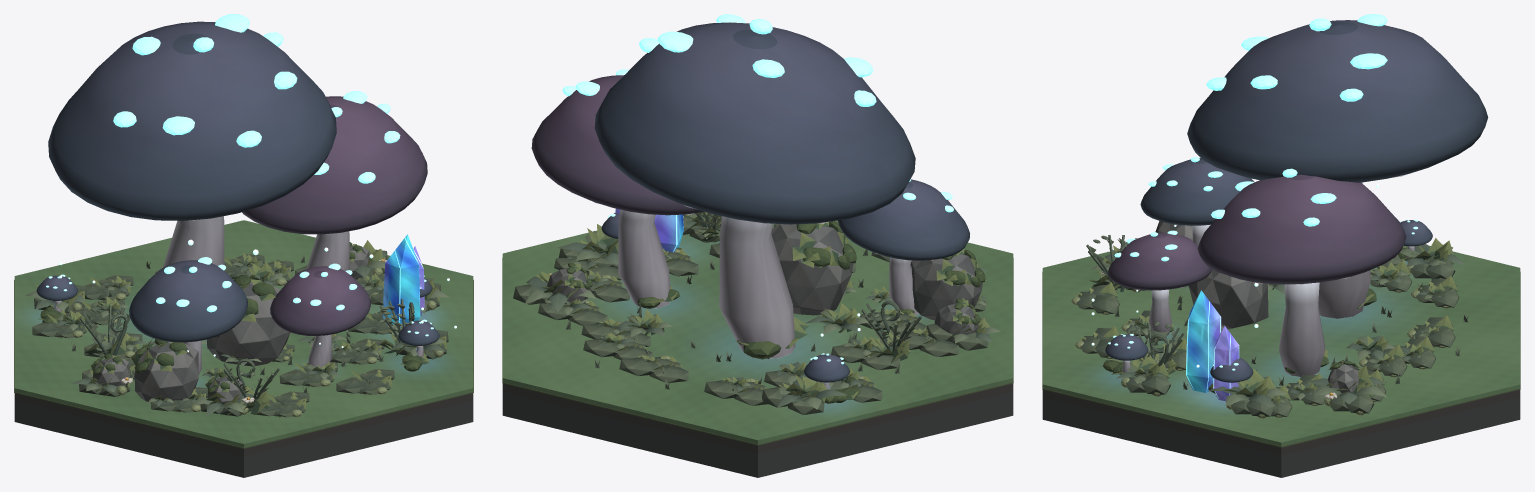
File: hex_glowing_mushrooms.glb
The picture shows the model from 3 angles, left to right: view 1: azimuth 30°, elevation 25°; view 2: azimuth 150°, elevation 25°; view 3: azimuth 270°, elevation 25°; orthographic projection. The views are drawn at different scales.
Visible parts, largest first — view 1: Broad faceted mushroom cap.001, Standard hex meadow top.001, Broad faceted mushroom cap.003, Standard hex stone foundation.001, Broad faceted mushroom cap.004, Broad faceted mushroom cap.005, Standard hex earth layer.001, Angular mossy forest boulder.001, Angular mossy forest boulder.002, Faceted magical crystal.001, Curving luminous mushroom stem.001, Curving luminous mushroom stem.003 (+6 smaller); view 2: Broad faceted mushroom cap.001, Standard hex meadow top.001, Standard hex stone foundation.001, Broad faceted mushroom cap.003, Curving luminous mushroom stem.001, Broad faceted mushroom cap.004, Standard hex earth layer.001, Angular mossy forest boulder.001, Curving luminous mushroom stem.003, Angular mossy forest boulder.002, Curving luminous mushroom stem.004, Broad faceted mushroom cap.007 (+8 smaller); view 3: Standard hex meadow top.001, Broad faceted mushroom cap.001, Broad faceted mushroom cap.003, Standard hex stone foundation.001, Broad faceted mushroom cap.004, Broad faceted mushroom cap.005, Standard hex earth layer.001, Curving luminous mushroom stem.003, Angular mossy forest boulder.001, Faceted magical crystal.001, Curving luminous mushroom stem.001, Faceted magical crystal.003 (+6 smaller).
Part boxes in pixels (box(x1,y1,x2,y2)): Broad faceted mushroom cap.001: box(48, 21, 336, 220); Standard hex meadow top.001: box(14, 220, 473, 447); Broad faceted mushroom cap.003: box(242, 96, 427, 234); Standard hex stone foundation.001: box(14, 400, 473, 477); Broad faceted mushroom cap.004: box(129, 260, 247, 342); Broad faceted mushroom cap.005: box(270, 266, 370, 335); Standard hex earth layer.001: box(14, 393, 473, 456); Angular mossy forest boulder.001: box(207, 282, 290, 366); Angular mossy forest boulder.002: box(134, 341, 198, 402); Faceted magical crystal.001: box(383, 234, 420, 329); Curving luminous mushroom stem.001: box(163, 216, 224, 270); Curving luminous mushroom stem.003: box(306, 231, 349, 271); Broad faceted mushroom cap.001: box(594, 22, 915, 224); Standard hex meadow top.001: box(502, 214, 1013, 444); Standard hex stone foundation.001: box(502, 391, 1013, 477); Broad faceted mushroom cap.003: box(531, 75, 703, 215); Curving luminous mushroom stem.001: box(719, 216, 795, 358); Broad faceted mushroom cap.004: box(837, 179, 969, 260); Standard hex earth layer.001: box(502, 383, 1013, 453); Angular mossy forest boulder.001: box(771, 224, 853, 315); Curving luminous mushroom stem.003: box(618, 209, 670, 308); Angular mossy forest boulder.002: box(910, 254, 982, 320); Curving luminous mushroom stem.004: box(889, 257, 919, 315); Broad faceted mushroom cap.007: box(804, 354, 849, 382); Standard hex meadow top.001: box(1042, 245, 1520, 446); Broad faceted mushroom cap.001: box(1187, 20, 1488, 182); Broad faceted mushroom cap.003: box(1197, 174, 1406, 284); Standard hex stone foundation.001: box(1042, 397, 1520, 477); Broad faceted mushroom cap.004: box(1140, 158, 1254, 225); Broad faceted mushroom cap.005: box(1107, 232, 1212, 290); Standard hex earth layer.001: box(1042, 389, 1520, 455); Curving luminous mushroom stem.003: box(1279, 282, 1324, 376); Angular mossy forest boulder.001: box(1188, 269, 1268, 329); Faceted magical crystal.001: box(1186, 290, 1221, 392); Curving luminous mushroom stem.001: box(1318, 182, 1370, 318); Faceted magical crystal.003: box(1213, 325, 1239, 401).
Bounding box in the file's own units: 5.11 × 3.38 × 4.42.
Materials: 40 (30 with a texture image).
